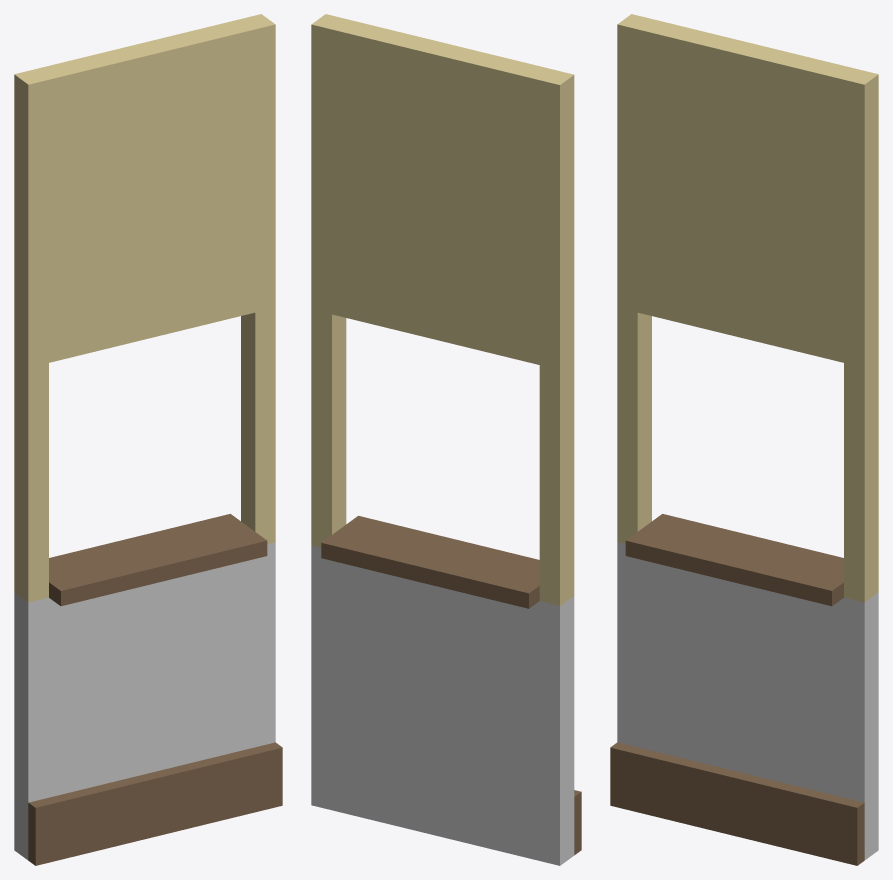
The model's file is Mesh_WallBaseboard2Colors_I2.fbx.
3 renders of one model, left to right at view 1: azimuth 30°, elevation 25°; view 2: azimuth 150°, elevation 25°; view 3: azimuth 330°, elevation 25°, orthographic.
Parts seen in each view (by area): view 1: Mesh_WallBaseboard2Colors_I2; view 2: Mesh_WallBaseboard2Colors_I2; view 3: Mesh_WallBaseboard2Colors_I2.
Boxes of the visible parts, x1,y1,x2,y2 form: Mesh_WallBaseboard2Colors_I2: (14, 14, 282, 865); Mesh_WallBaseboard2Colors_I2: (311, 14, 581, 865); Mesh_WallBaseboard2Colors_I2: (610, 14, 878, 865).
Size of the model in its own units: 1 by 3 by 0.2574.
